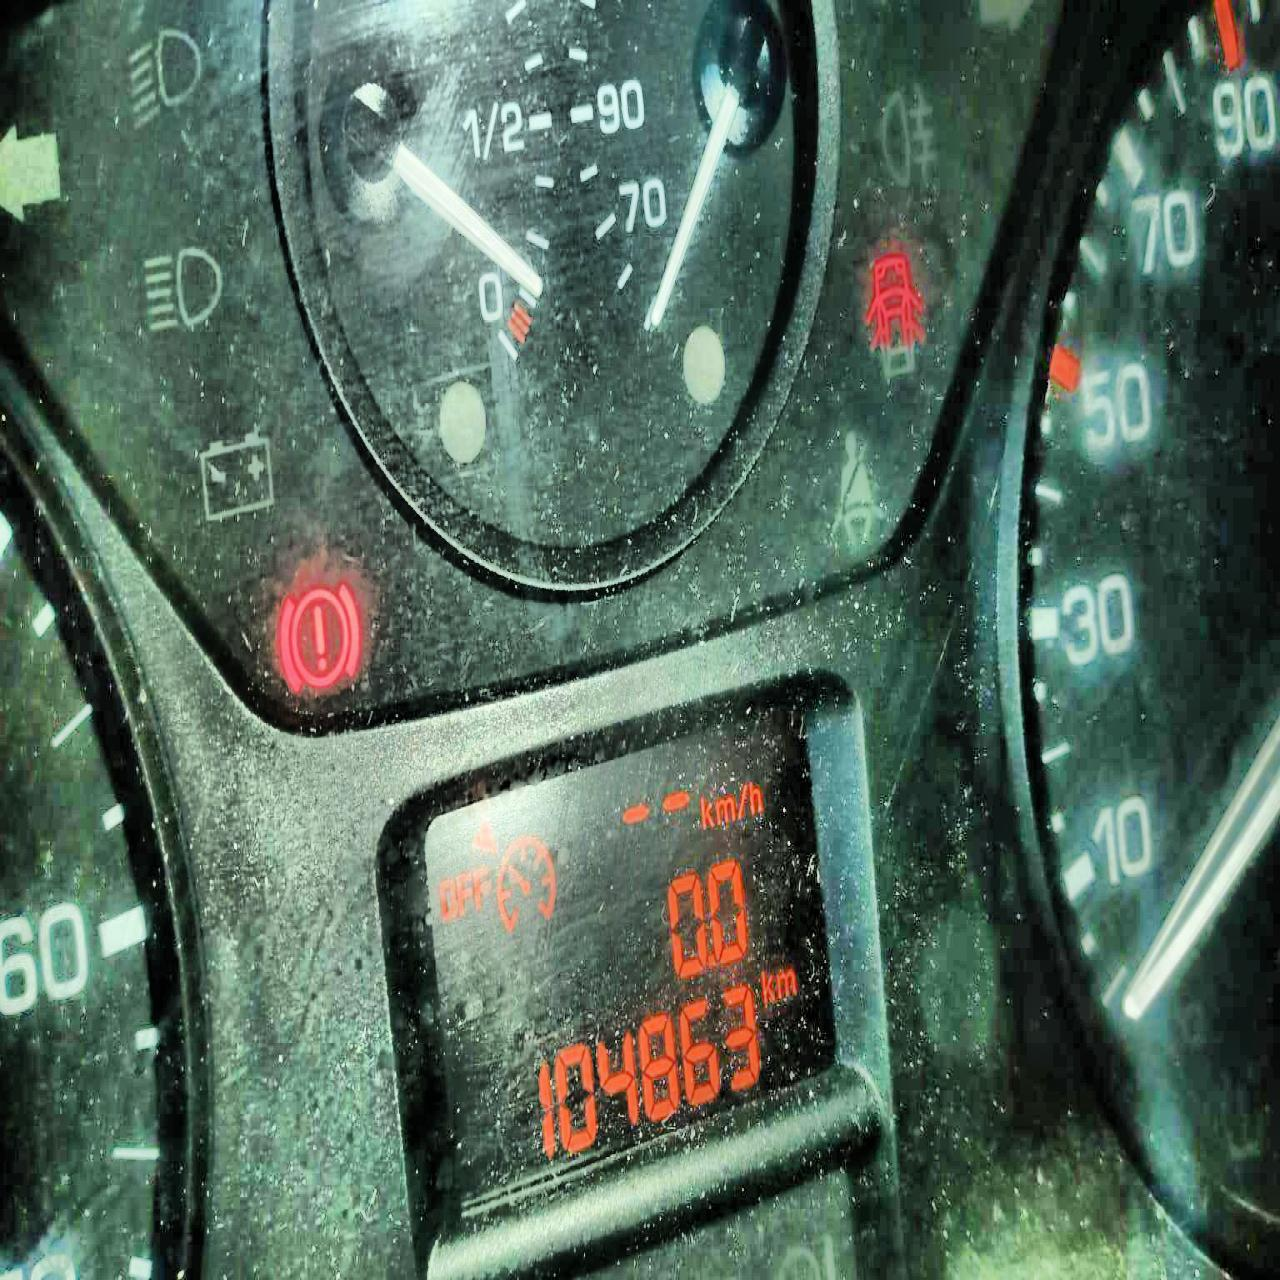-: (706, 951, 716, 969)
0: (554, 1043, 595, 1151), (666, 872, 706, 978), (708, 858, 747, 964)
1: (538, 1062, 554, 1157)
3: (722, 983, 760, 1089)
4: (597, 1029, 639, 1124)
6: (679, 1000, 719, 1105)
8: (640, 1014, 679, 1118)
X: (436, 876, 456, 921), (471, 864, 486, 910), (456, 870, 470, 915), (776, 969, 796, 1000), (715, 795, 735, 824), (760, 967, 774, 1006), (748, 779, 762, 815), (736, 782, 748, 818), (700, 797, 713, 828)
odometer: (417, 689, 846, 1232)
